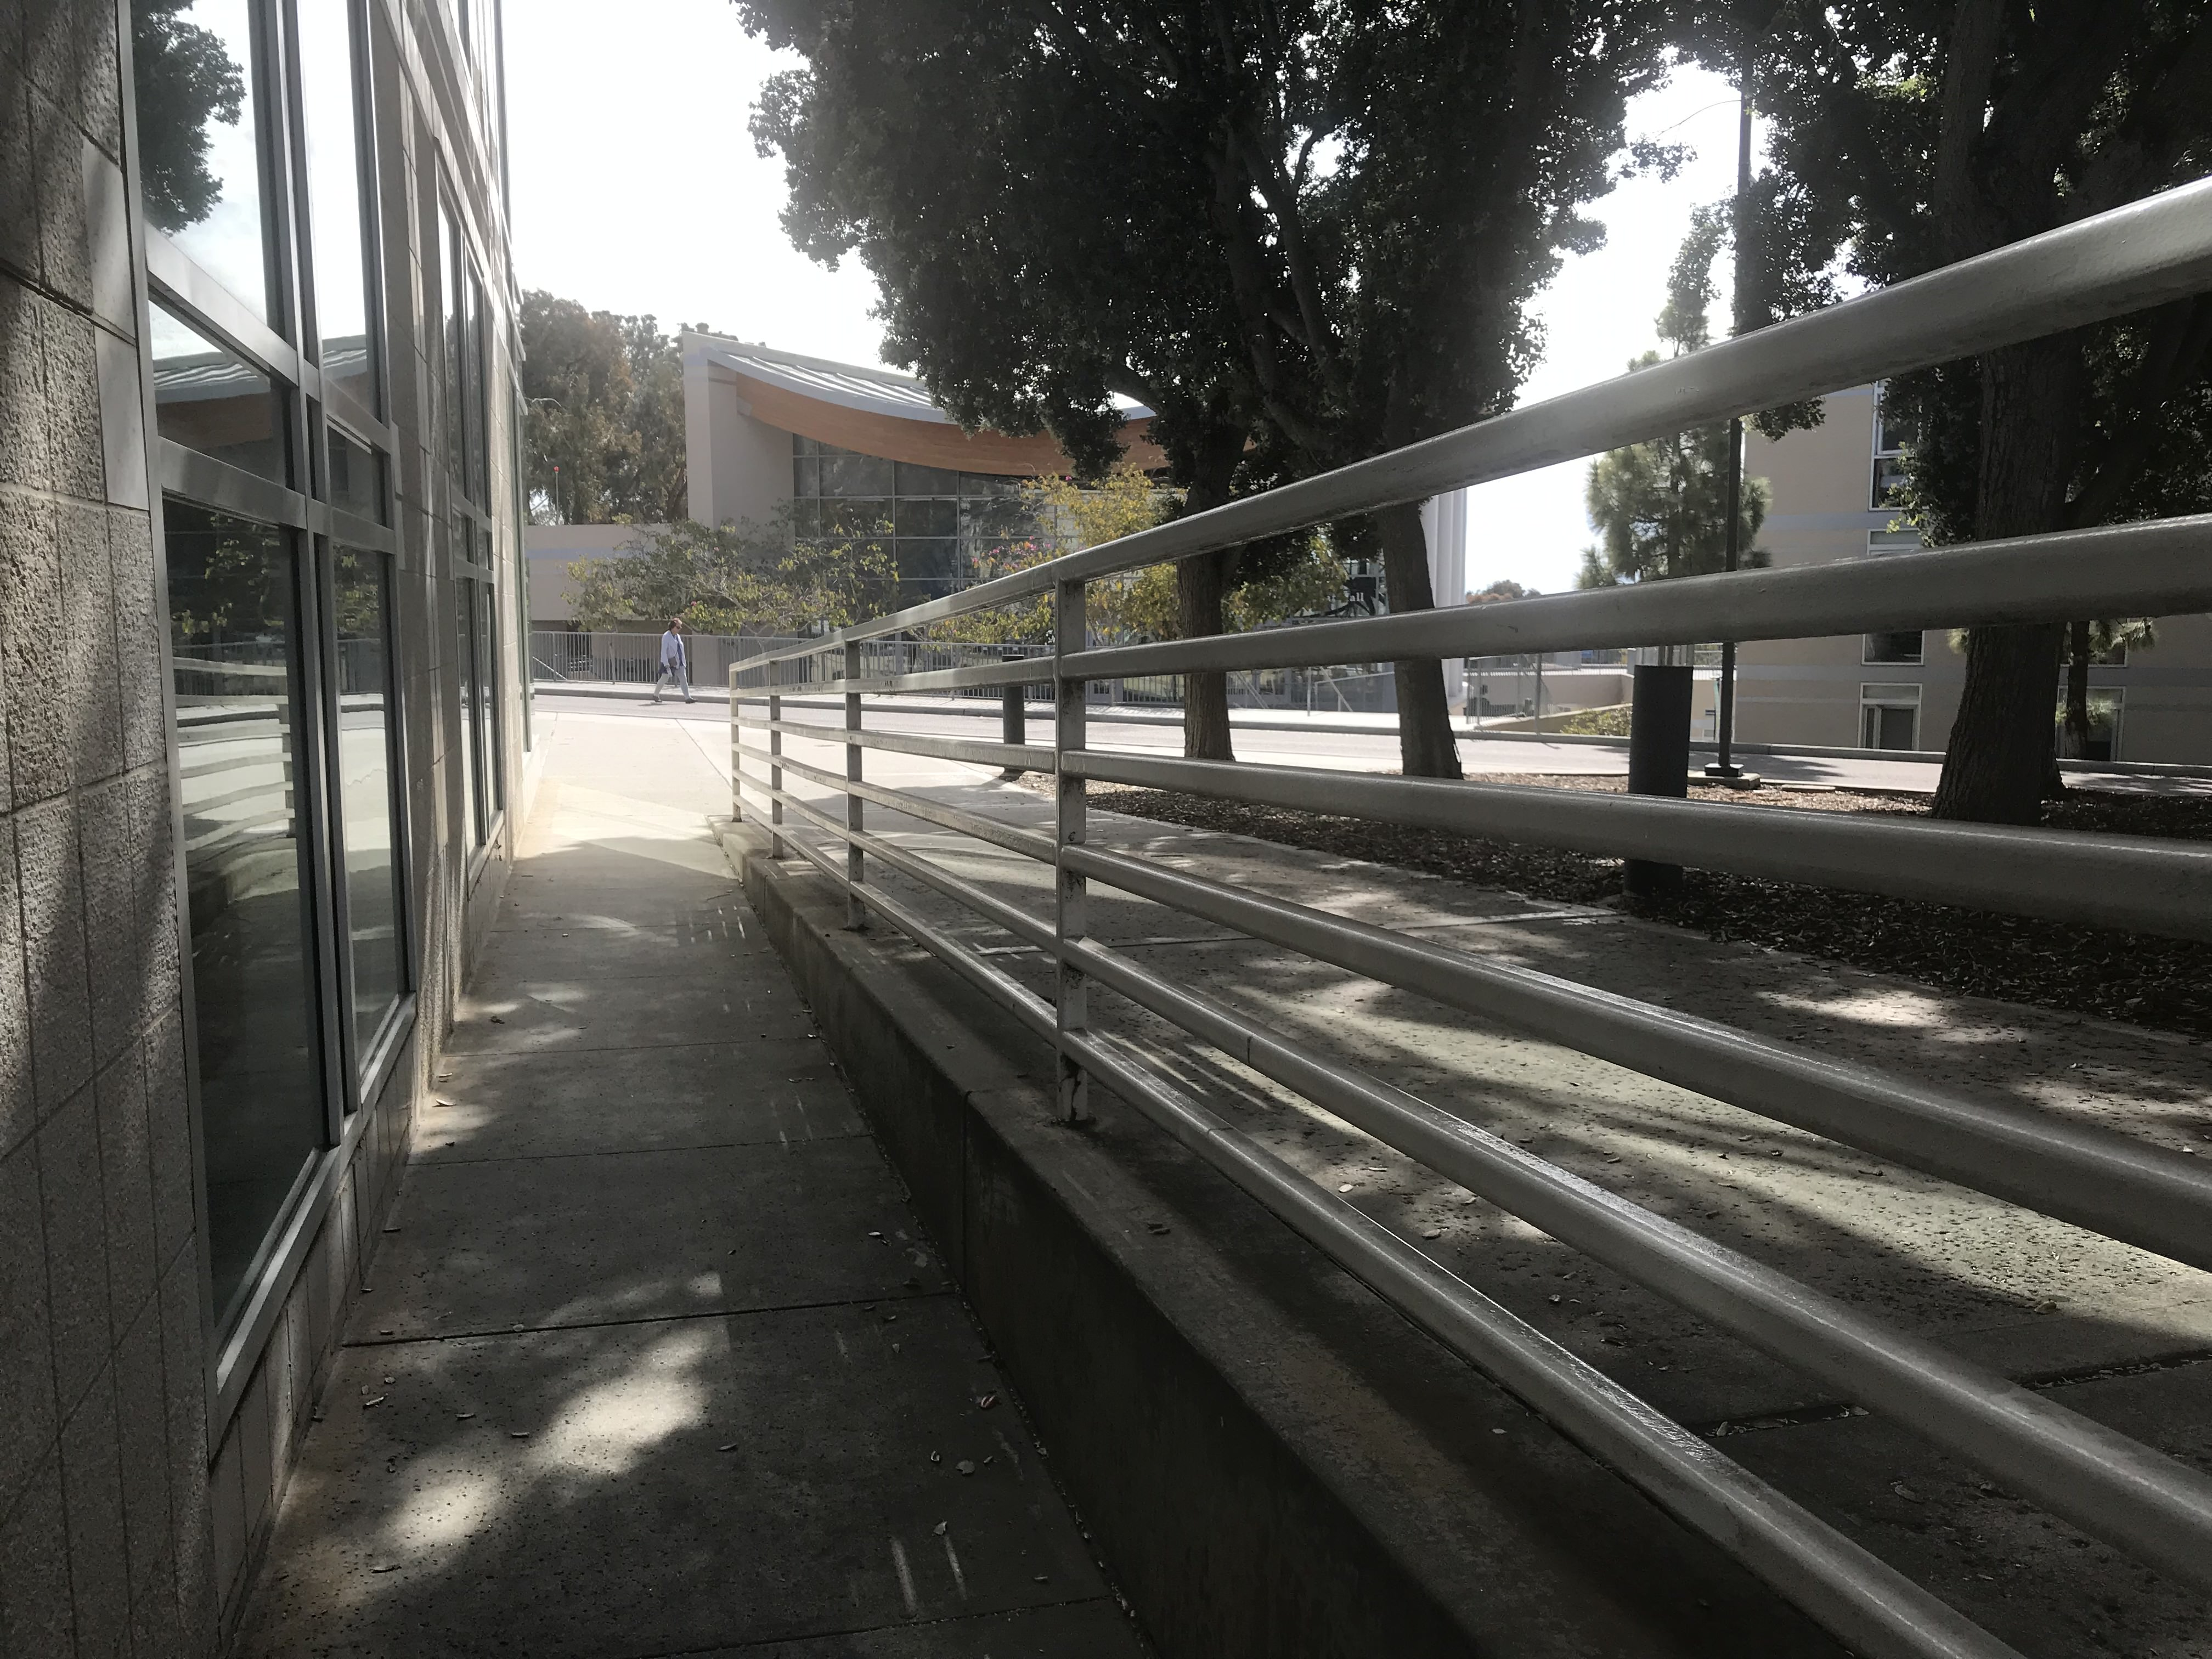Edge: (749, 842, 1782, 1638)
Obstacle: (737, 181, 2205, 1649), (0, 7, 521, 1656)
